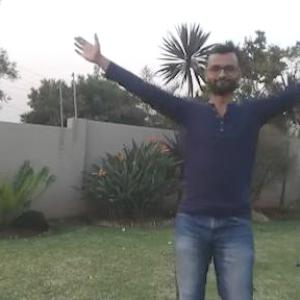takeoff: (85, 35, 299, 299)
